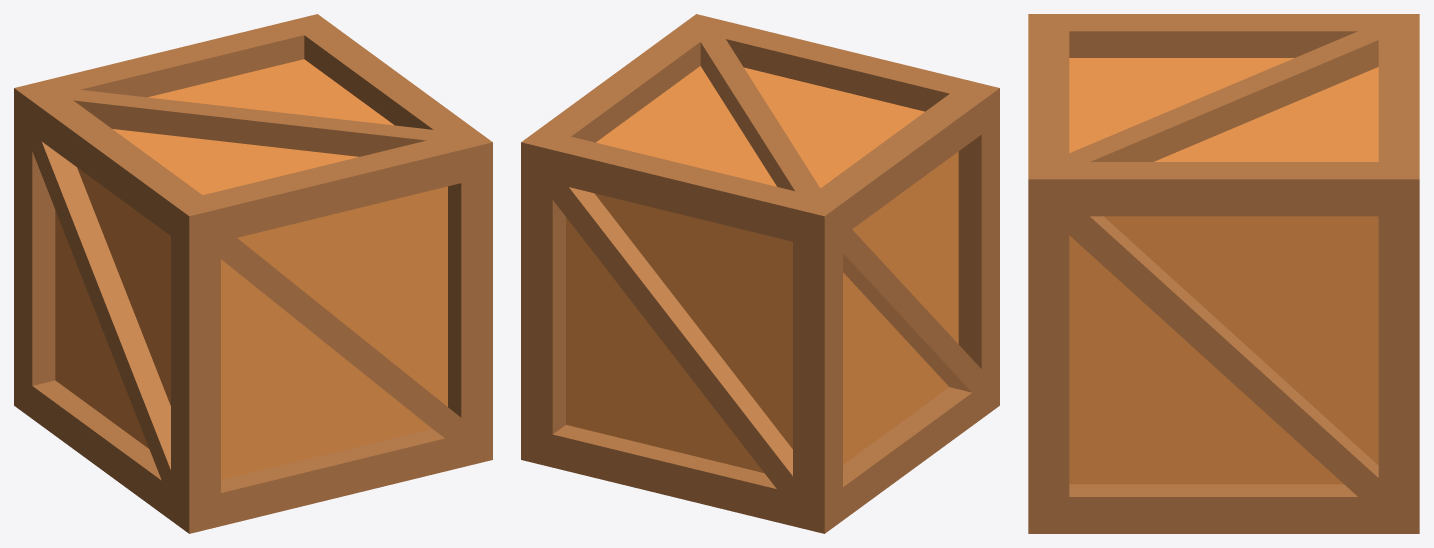
Rendered from Wooden Crate 2 (Breakable).fbx.
The picture shows the model from 3 angles, left to right: view 1: azimuth 30°, elevation 25°; view 2: azimuth 150°, elevation 25°; view 3: azimuth 270°, elevation 25°; orthographic projection. The views are drawn at different scales.
Parts seen in each view (by area): view 1: Wooden Crate 2.002, Wooden Crate 2.005, Wooden Crate 2.001; view 2: Wooden Crate 2.004, Wooden Crate 2.005, Wooden Crate 2.001; view 3: Wooden Crate 2.003, Wooden Crate 2.001.
Part boxes in pixels (left/top/right/bottom): Wooden Crate 2.002: left=189, top=142, right=492, bottom=533; Wooden Crate 2.005: left=14, top=88, right=189, bottom=533; Wooden Crate 2.001: left=14, top=14, right=492, bottom=216; Wooden Crate 2.004: left=521, top=142, right=824, bottom=533; Wooden Crate 2.005: left=824, top=88, right=999, bottom=533; Wooden Crate 2.001: left=521, top=14, right=999, bottom=216; Wooden Crate 2.003: left=1028, top=179, right=1419, bottom=533; Wooden Crate 2.001: left=1028, top=14, right=1419, bottom=179.
Size of the model in its own units: 2 by 2 by 2.
